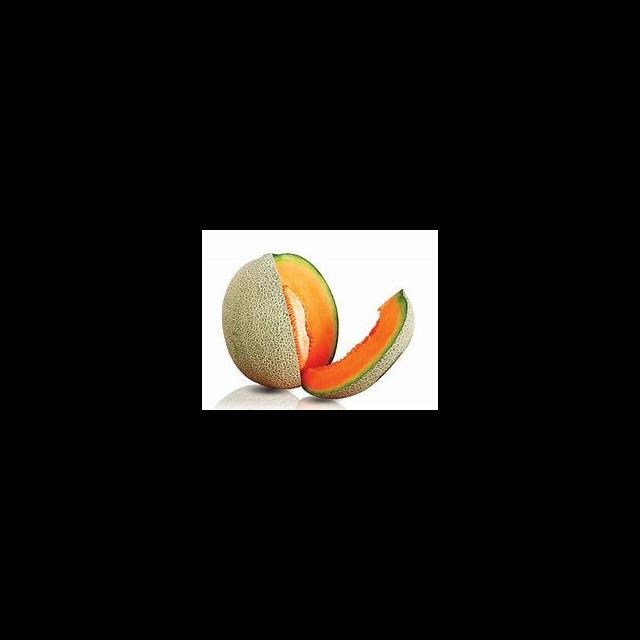Hami Melon: (222, 252, 339, 389), (304, 290, 414, 398)
